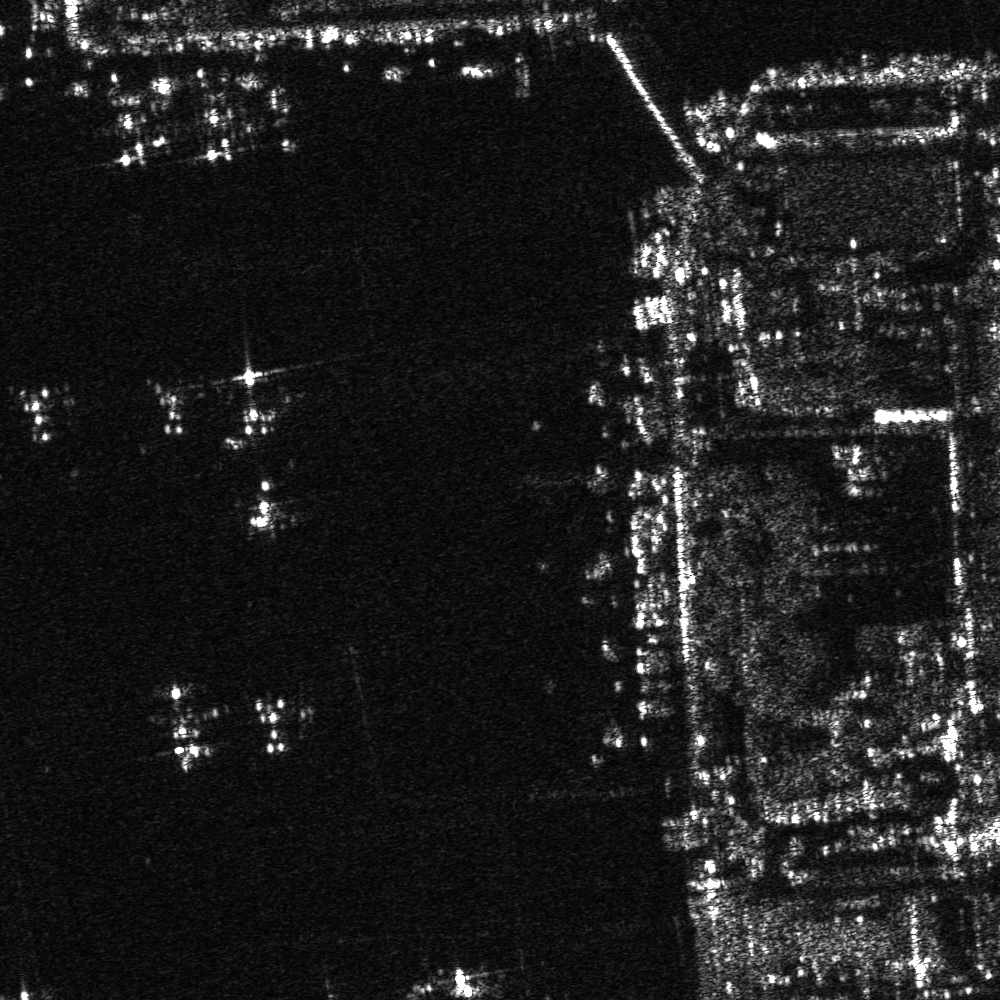A220: (243, 687, 313, 758)
ARJ21: (251, 77, 323, 154), (237, 476, 292, 540)
Boeing737: (88, 87, 177, 168)
Boeing787: (413, 952, 507, 999)
other: (136, 682, 234, 776), (224, 357, 296, 449), (185, 88, 256, 167), (10, 374, 76, 451), (149, 372, 209, 435)
